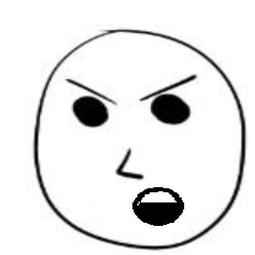eye: (71, 89, 108, 137), (149, 93, 195, 128)
frowning_eyebrow: (64, 72, 121, 107), (136, 73, 199, 100)
open_mouth: (129, 181, 188, 228)
pointy_nose: (111, 142, 147, 183)
